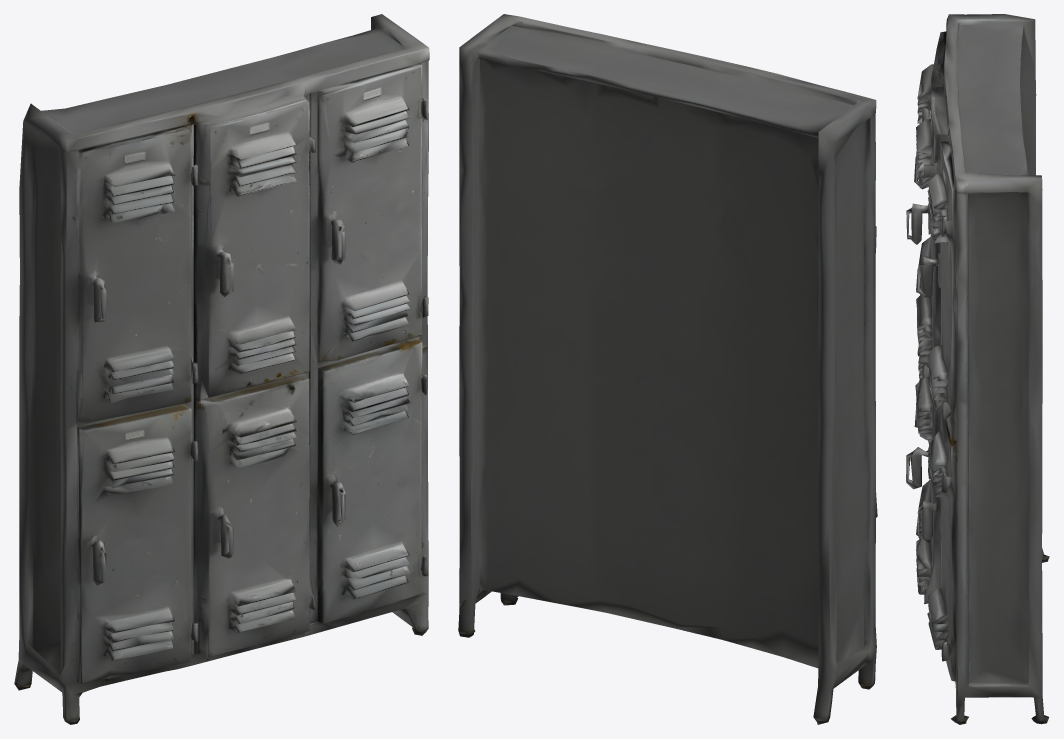
The model's file is lockers.fbx.
3 renders of one model, left to right at view 1: azimuth 30°, elevation 25°; view 2: azimuth 150°, elevation 25°; view 3: azimuth 270°, elevation 25°, orthographic. The views are drawn at different scales.
Parts seen in each view (by area): view 1: lockers; view 2: lockers; view 3: lockers.
Boxes of the visible parts, left/top/right/bottom form: lockers: left=14, top=14, right=429, bottom=724; lockers: left=458, top=14, right=877, bottom=724; lockers: left=906, top=14, right=1049, bottom=724.
Size of the model in its own units: 1.18 by 1.8 by 0.4303.
1 material, 1 textured.
